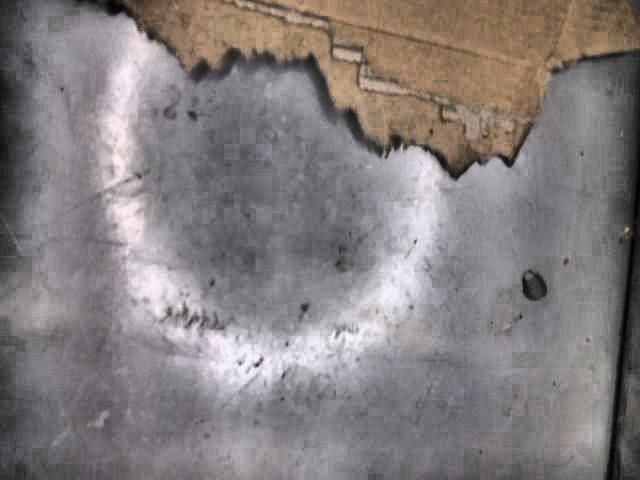Paper: (105, 2, 640, 184)
